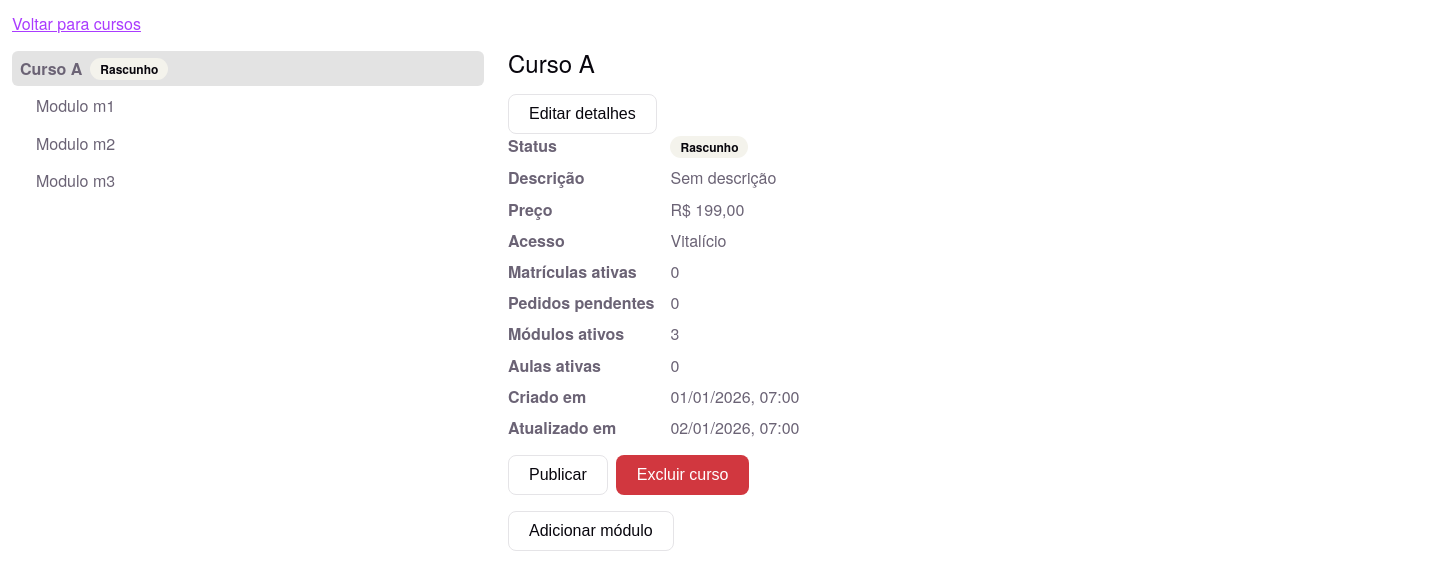
Test: reordering modules › explains a stale list and re-reads the tree
The image size is (1452, 568).
Click the list item "Modulo m2". click: coordinates (76, 143)
box: x1=36 y1=132 x2=115 y2=155
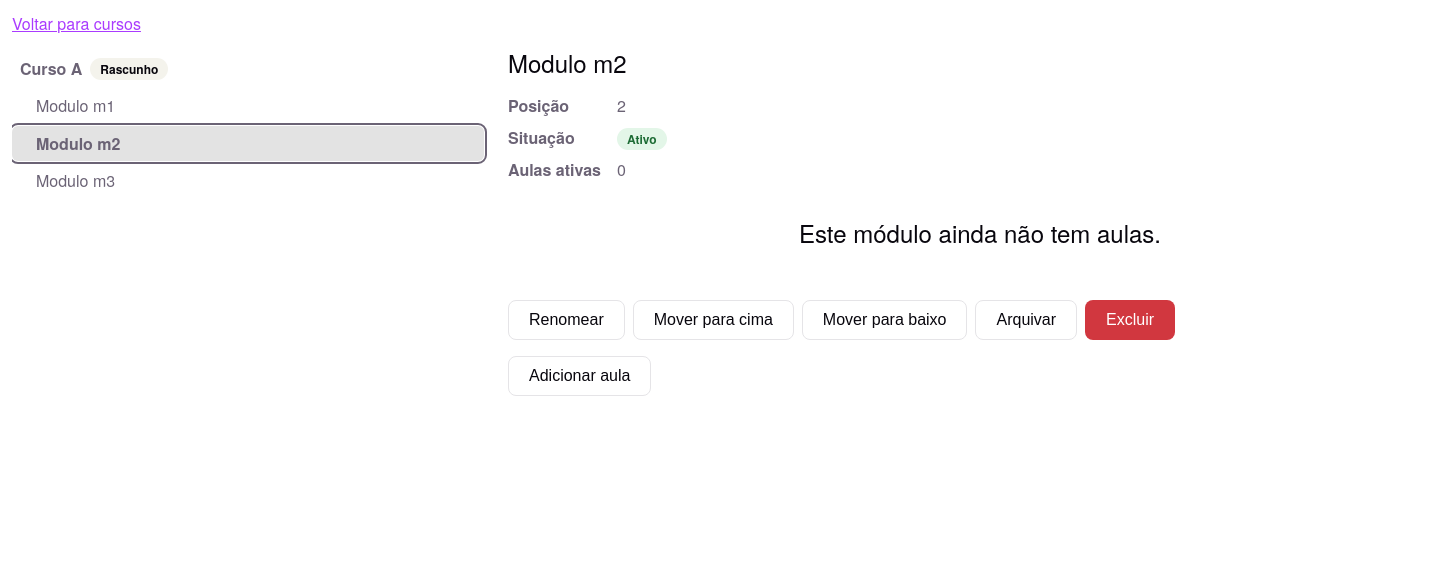
Click the button "Mover para cima". click: coordinates (713, 320)
box: x1=633 y1=300 x2=794 y2=340
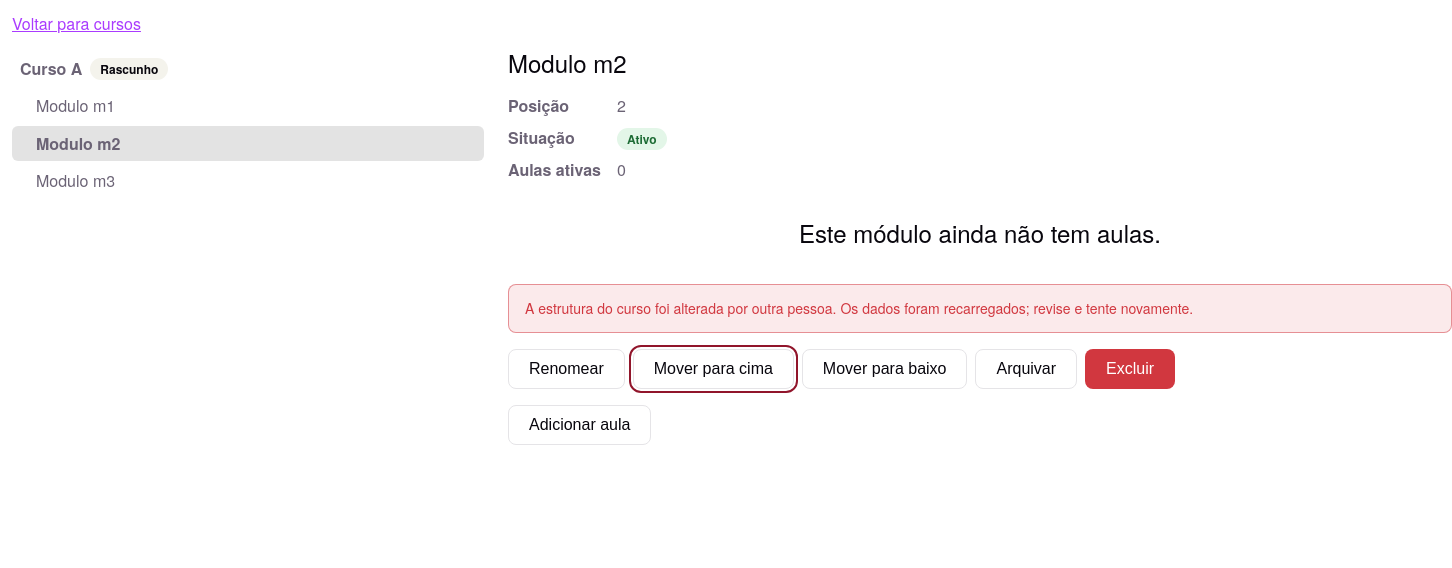
Expected: the text "estrutura do curso foi alterada por outra pessoa" is shown, x1=525 y1=298 x2=1193 y2=318
